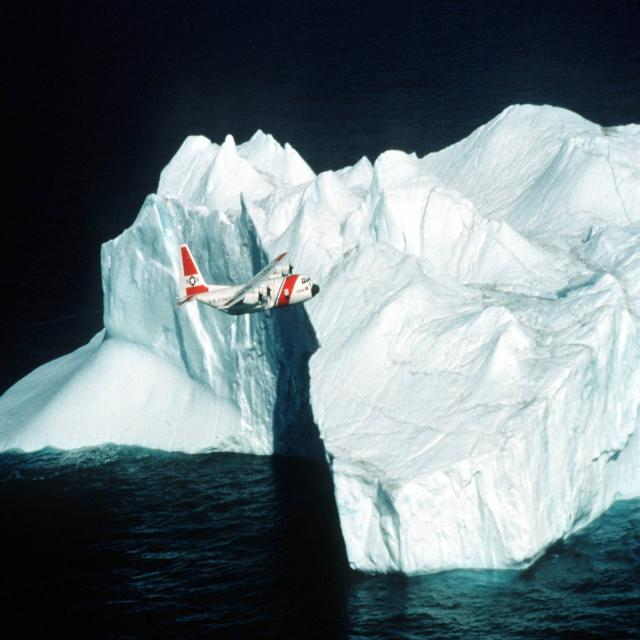MIL_Plane: (174, 243, 320, 315)
